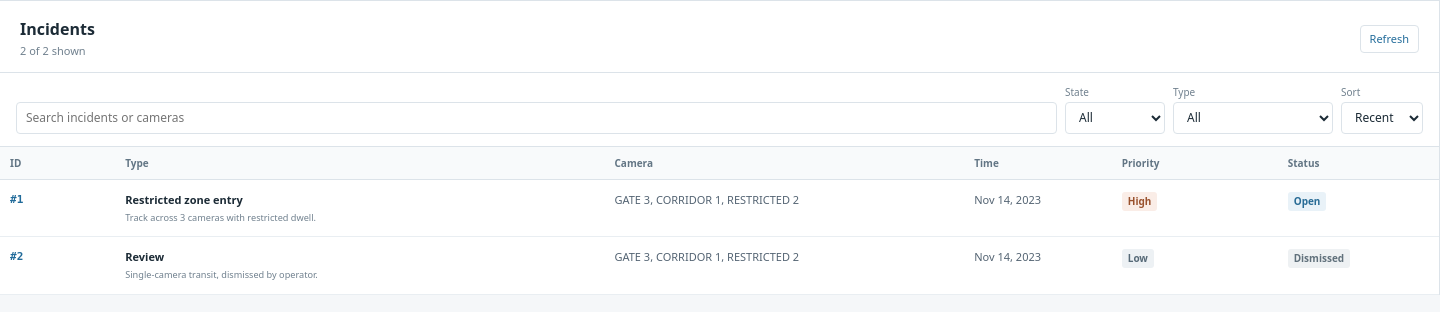
Test: IncidentFeed › filters by lifecycle state group
Expected: the row with test id "incident-row-1" is shown, 0,180 -> 1439,237
Expected: the row with test id "incident-row-2" is shown, 0,237 -> 1439,294
Select "Dismissed" in the dropdown named "State filter" at (1115, 118), box 1065,102 -> 1165,134
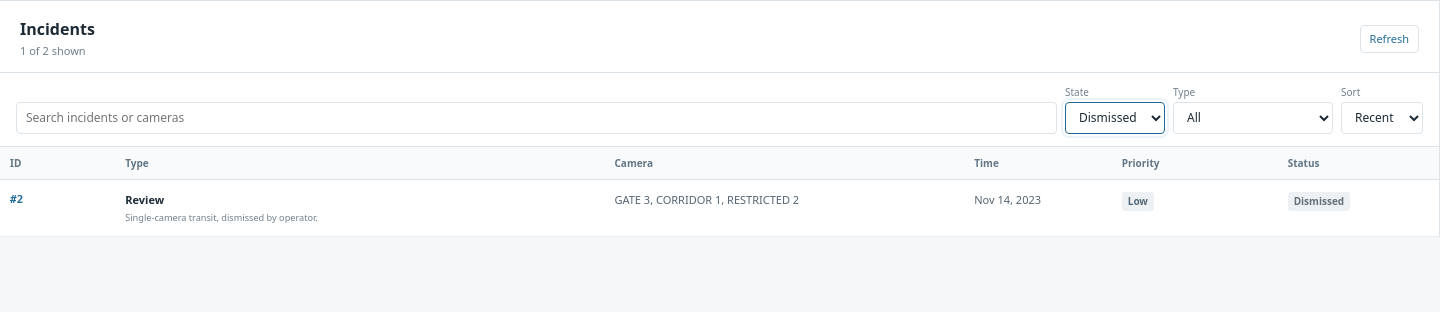
Expected: the row with test id "incident-row-2" is shown, 0,180 -> 1439,237
Expected: the row with test id "incident-row-1" is gone
